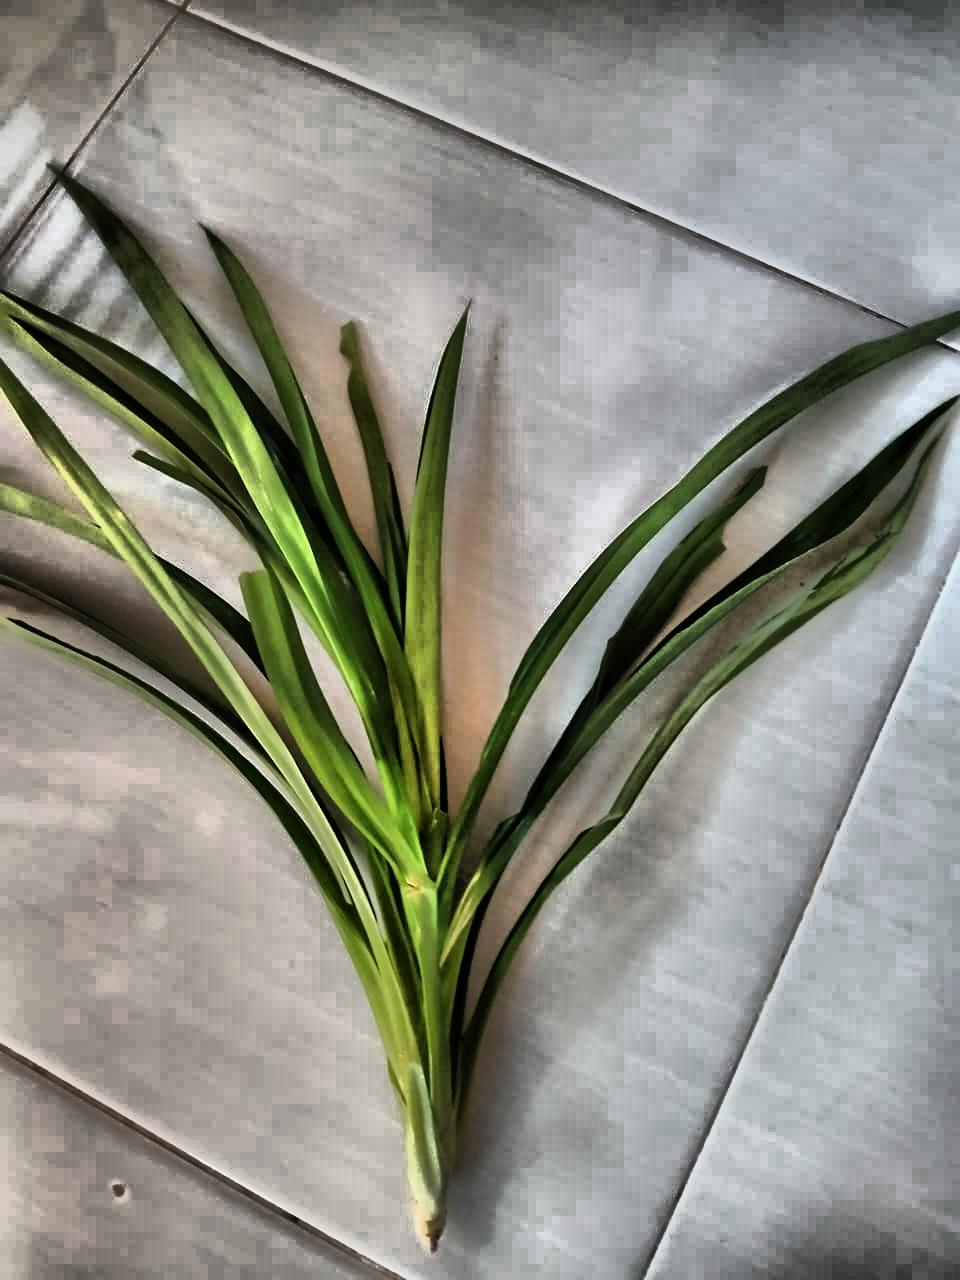daun pandan: (0, 171, 959, 1249)
